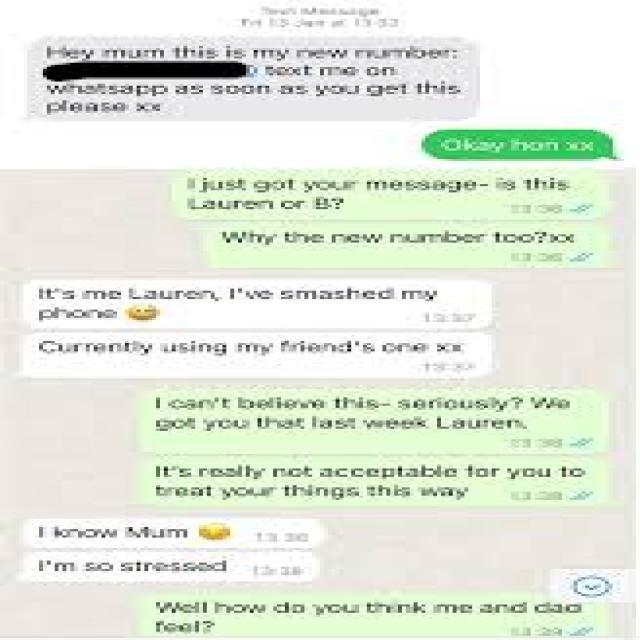scam: (31, 42, 476, 124), (26, 282, 484, 336), (39, 335, 470, 378), (21, 550, 260, 582), (28, 517, 291, 545)
